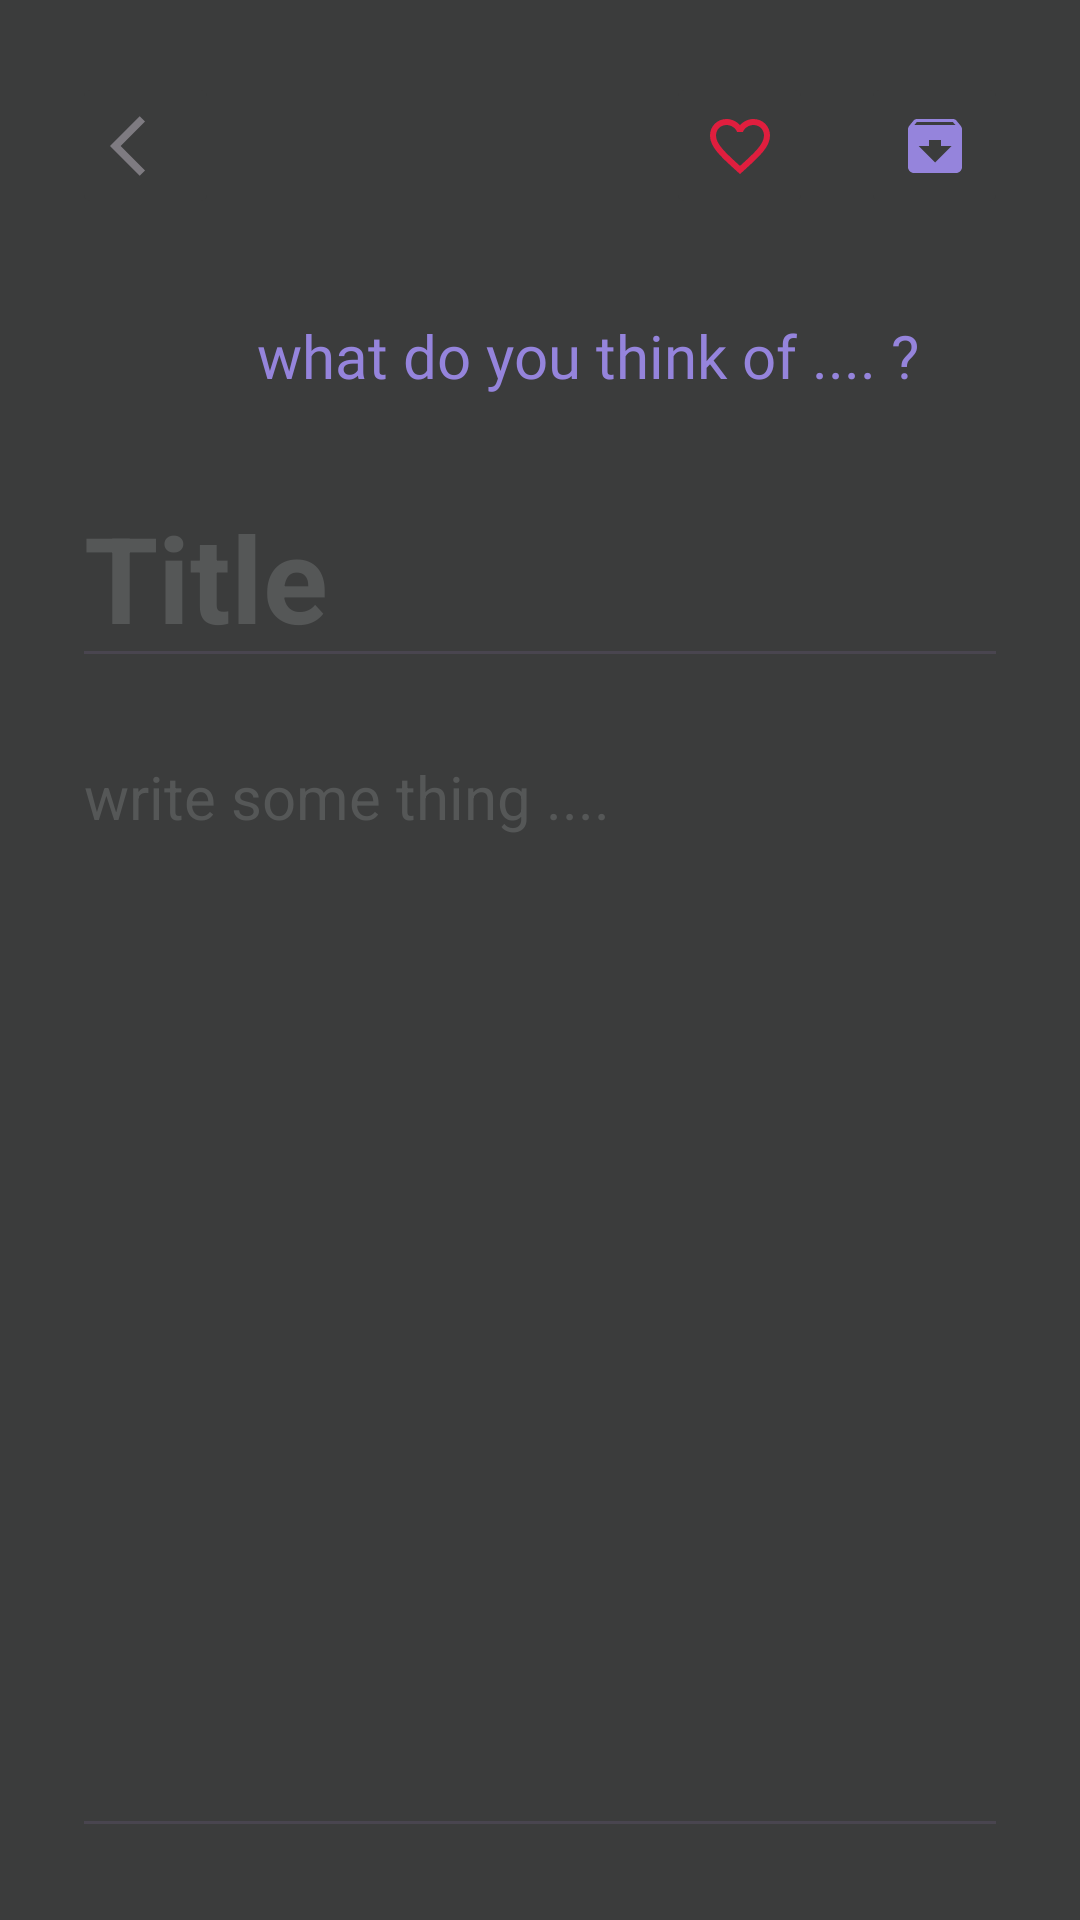

Screen size 1080px x 1920px. Icon name, then its box in pixels as [x1, y1, x2, y2]:
Back Button: [110, 116, 145, 176]
Favorite Button: [710, 119, 770, 174]
